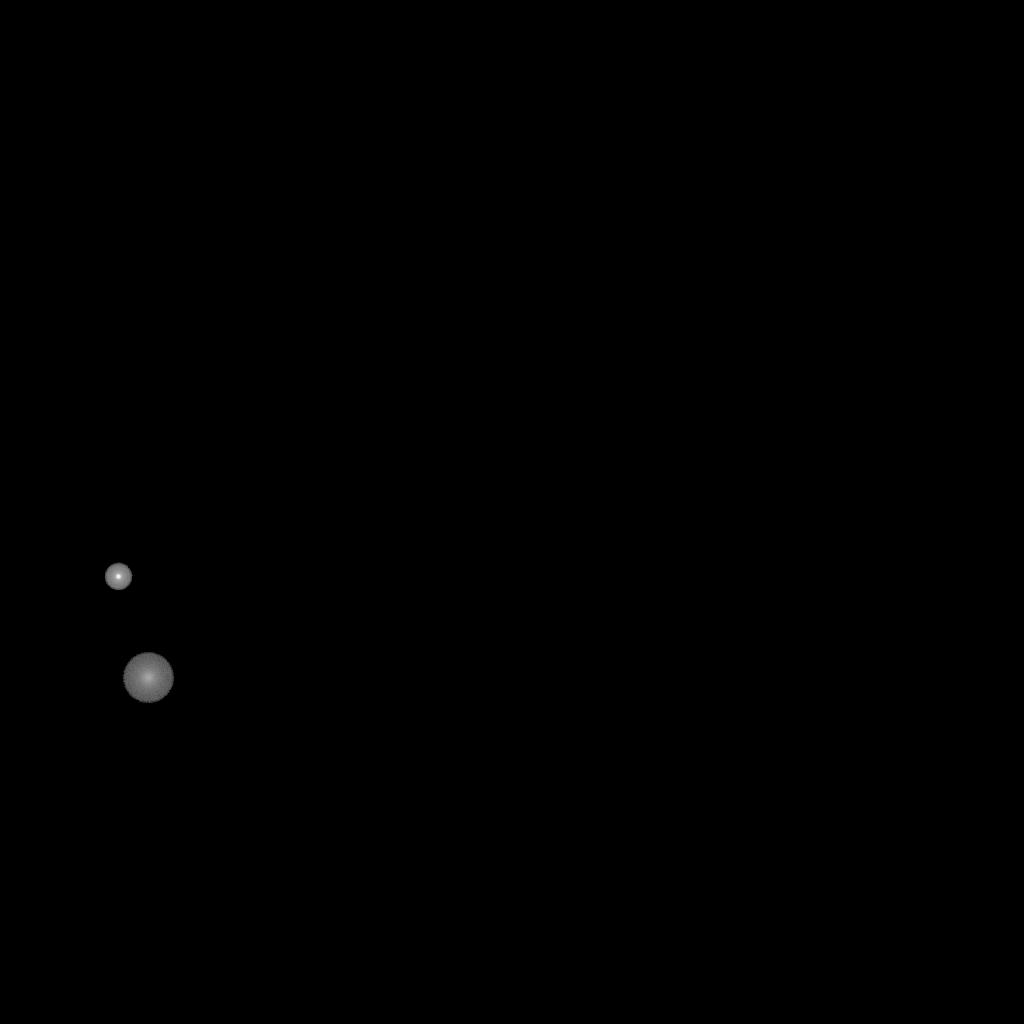depth:-10: (104, 563, 132, 591)
depth:20: (122, 653, 174, 703)
